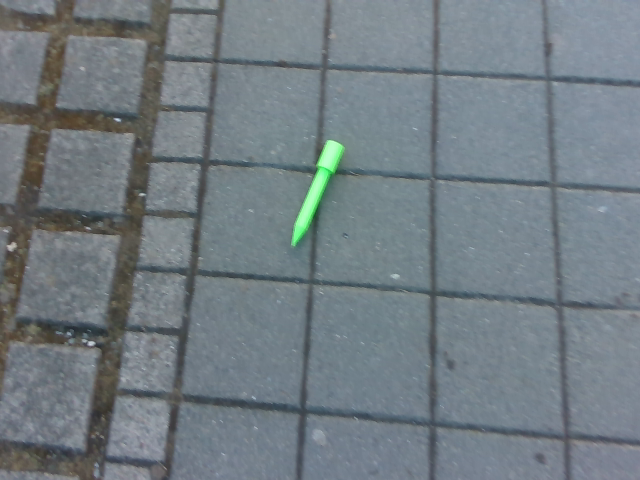Probe: (288, 134, 346, 252)
